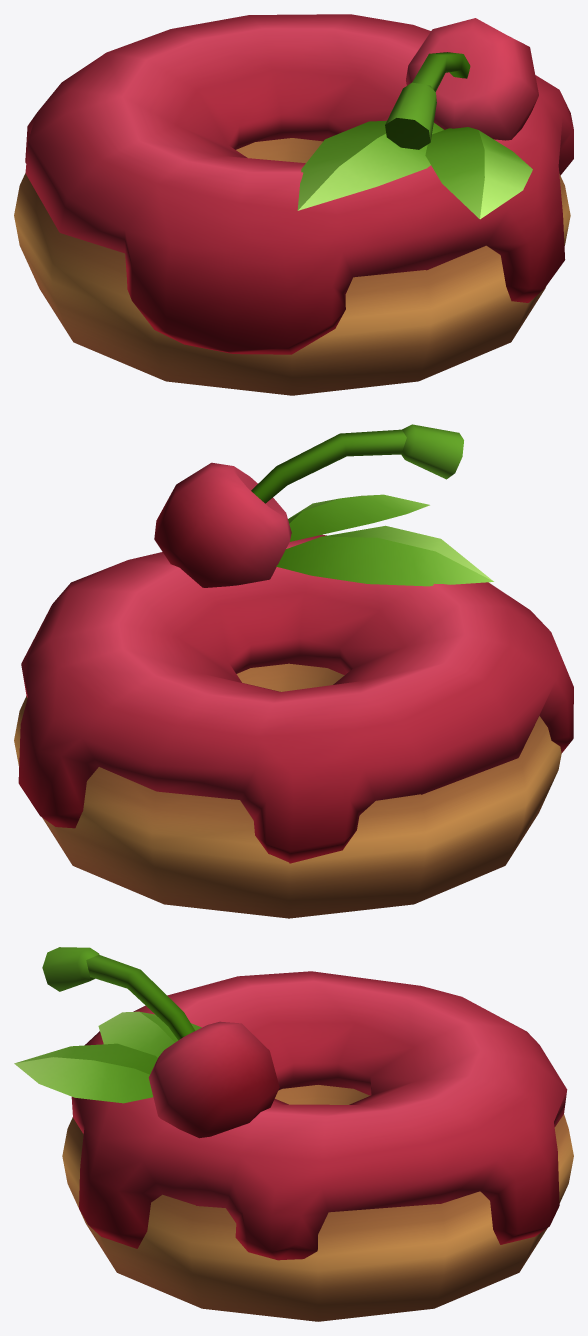
The model's file is m_Donut16.fbx.
The picture shows the model from 3 angles, top to bottom: view 1: azimuth 30°, elevation 25°; view 2: azimuth 150°, elevation 25°; view 3: azimuth 270°, elevation 25°; orthographic projection. The views are drawn at different scales.
Visible parts, largest first — view 1: m_Donut16; view 2: m_Donut16; view 3: m_Donut16.
Part boxes in pixels (<box>): m_Donut16: <box>14,14,573,395</box>; m_Donut16: <box>14,424,573,918</box>; m_Donut16: <box>14,947,573,1321</box>.
Bounding box in the file's own units: 12.47 × 7.92 × 13.31.
